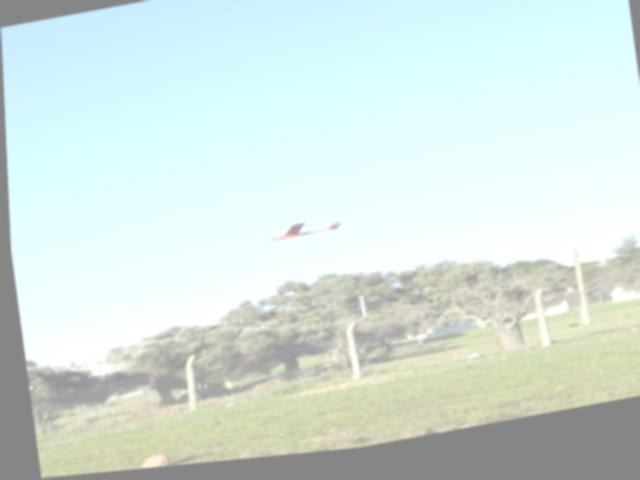iha: (256, 215, 341, 258)
